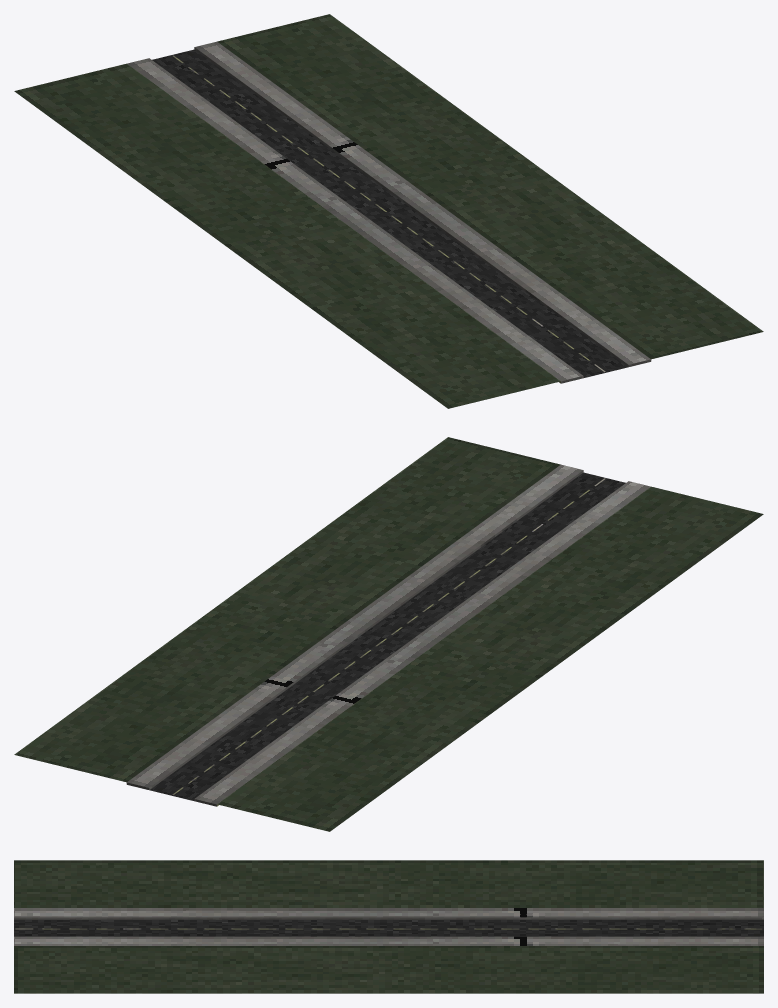
Rendered from road.glb.
The picture shows the model from 3 angles, top to bottom: view 1: azimuth 30°, elevation 25°; view 2: azimuth 150°, elevation 25°; view 3: azimuth 270°, elevation 25°; orthographic projection. The views are drawn at different scales.
Parts seen in each view (by area): view 1: Plane; view 2: Plane; view 3: Plane.
Boxes of the visible parts, left/top/right/bottom form: Plane: left=14, top=14, right=763, bottom=408; Plane: left=14, top=437, right=763, bottom=831; Plane: left=14, top=860, right=763, bottom=993.
Bounding box in the file's own units: 420 × 3.04 × 1000.
1 material, 1 textured.
